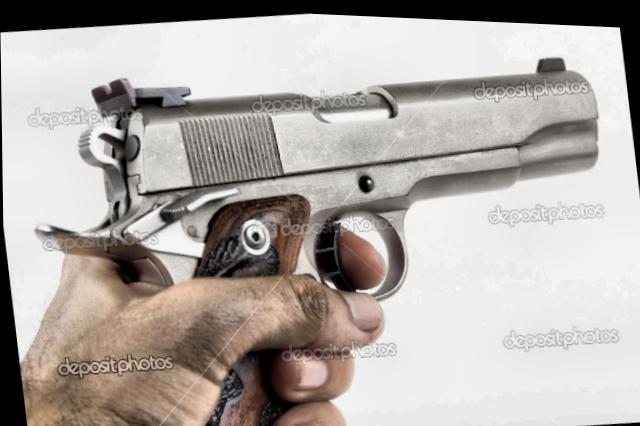pistol: (15, 21, 639, 426)
